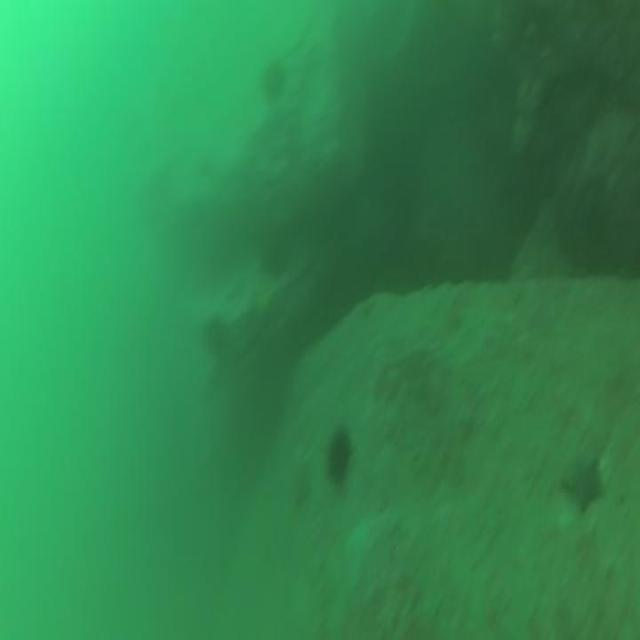echinus: (328, 430, 350, 482), (204, 321, 230, 360), (260, 60, 282, 96)
starfish: (562, 452, 601, 514)
